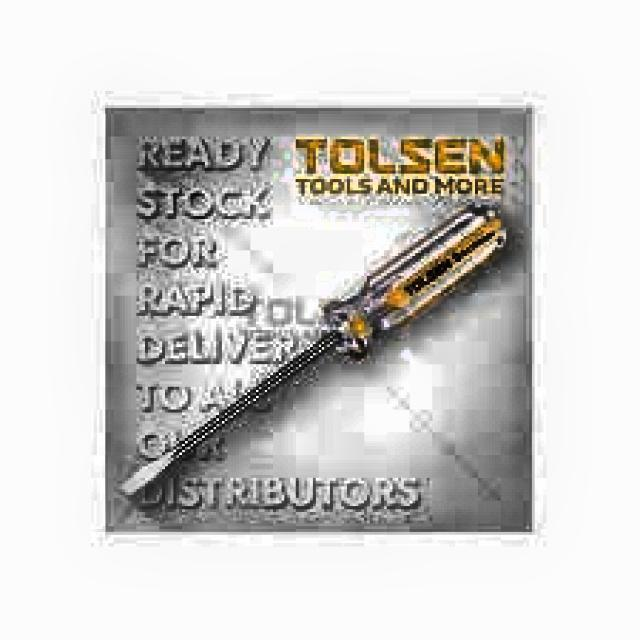screwdriver: (120, 206, 503, 500)
